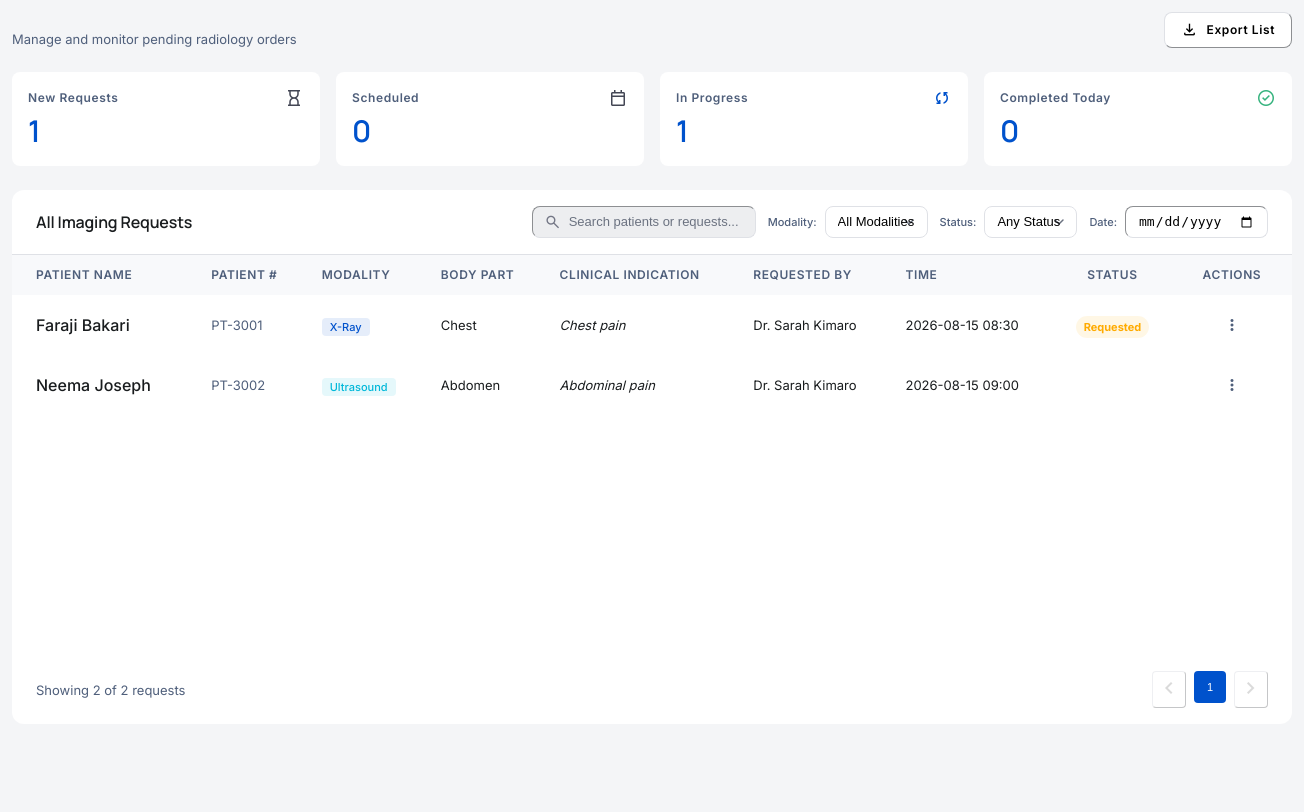
Scenario: ImagingRequestsPage › filters requests by search term
Expected: the text "Faraji Bakari" is shown, [12,295,195,355]
In the field with placeholder "Search patients or requests...": (644,222) [532,206,756,238], type "Neema"
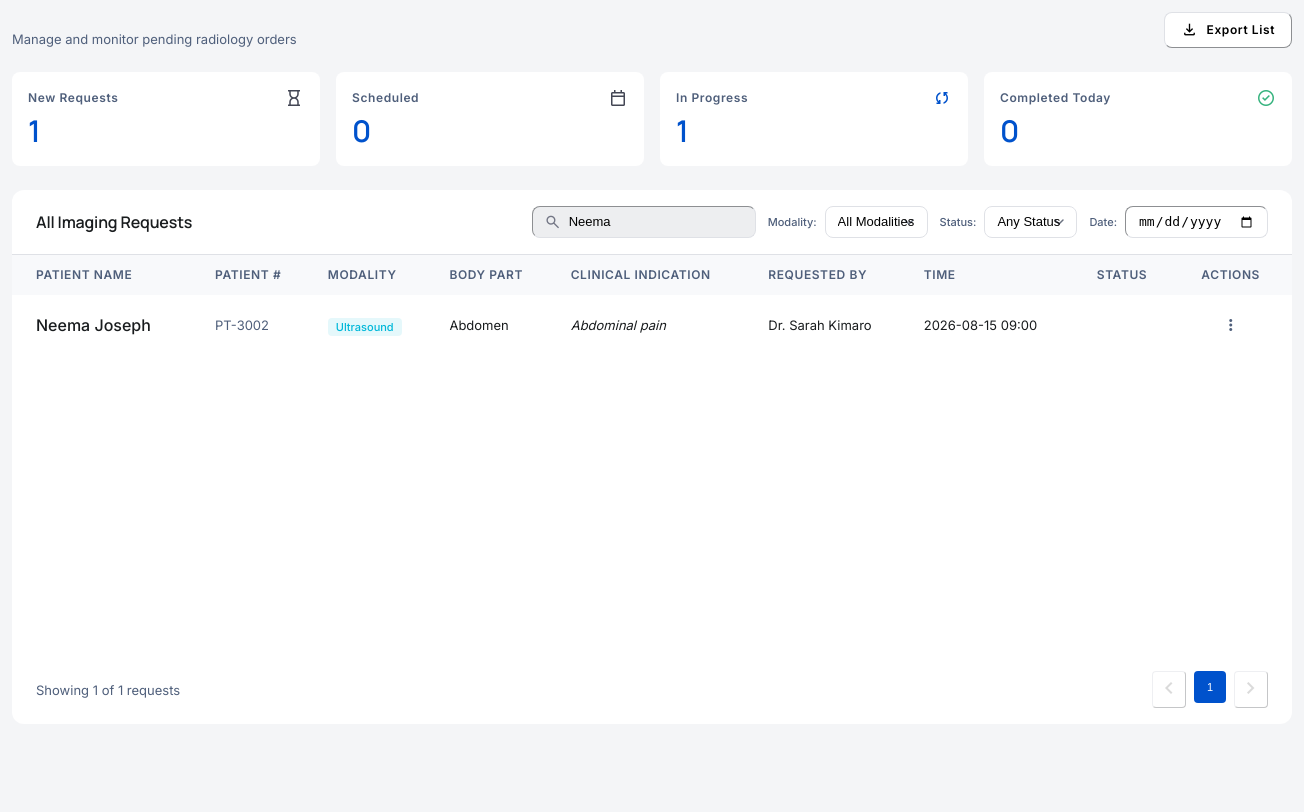
Expected: the text "Neema Joseph" is shown, [12,295,199,355]
Result: the text "Faraji Bakari" is gone
